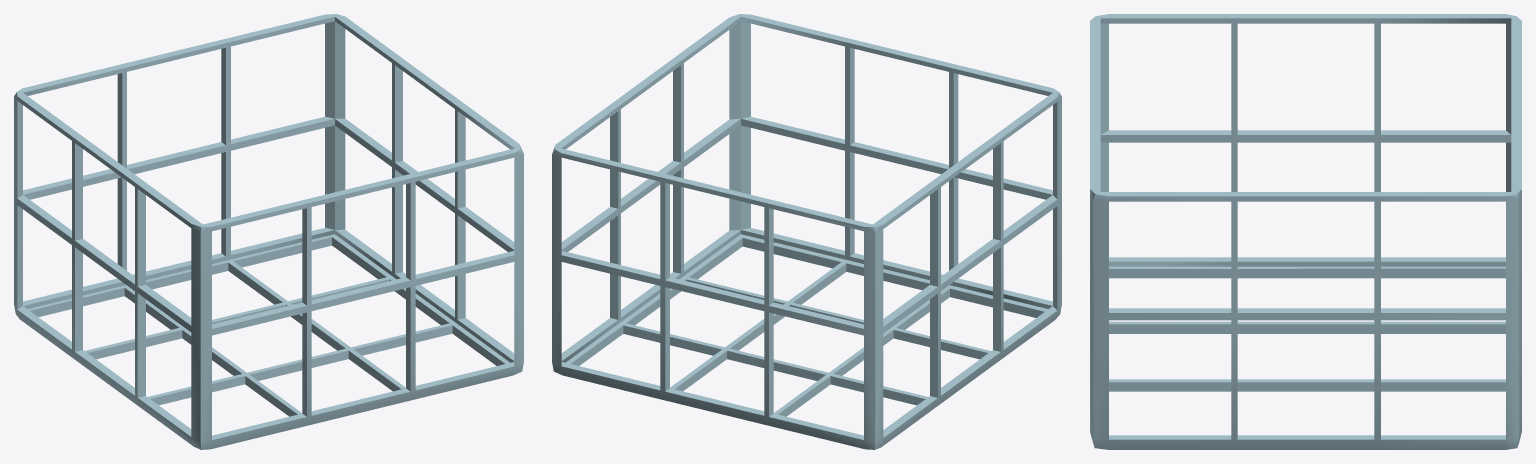
File: Bathroom2_organizer.fbx
3 views of the same model, side by side, from view 1: azimuth 30°, elevation 25°; view 2: azimuth 150°, elevation 25°; view 3: azimuth 270°, elevation 25° (orthographic). The views are drawn at different scales.
Parts seen in each view (by area): view 1: Bathroom2_organizer; view 2: Bathroom2_organizer; view 3: Bathroom2_organizer.
Part boxes in pixels (<box>): Bathroom2_organizer: <box>14,14,523,449</box>; Bathroom2_organizer: <box>552,14,1061,449</box>; Bathroom2_organizer: <box>1090,14,1521,449</box>.
Bounding box in the file's own units: 28.54 × 18.79 × 28.54.
